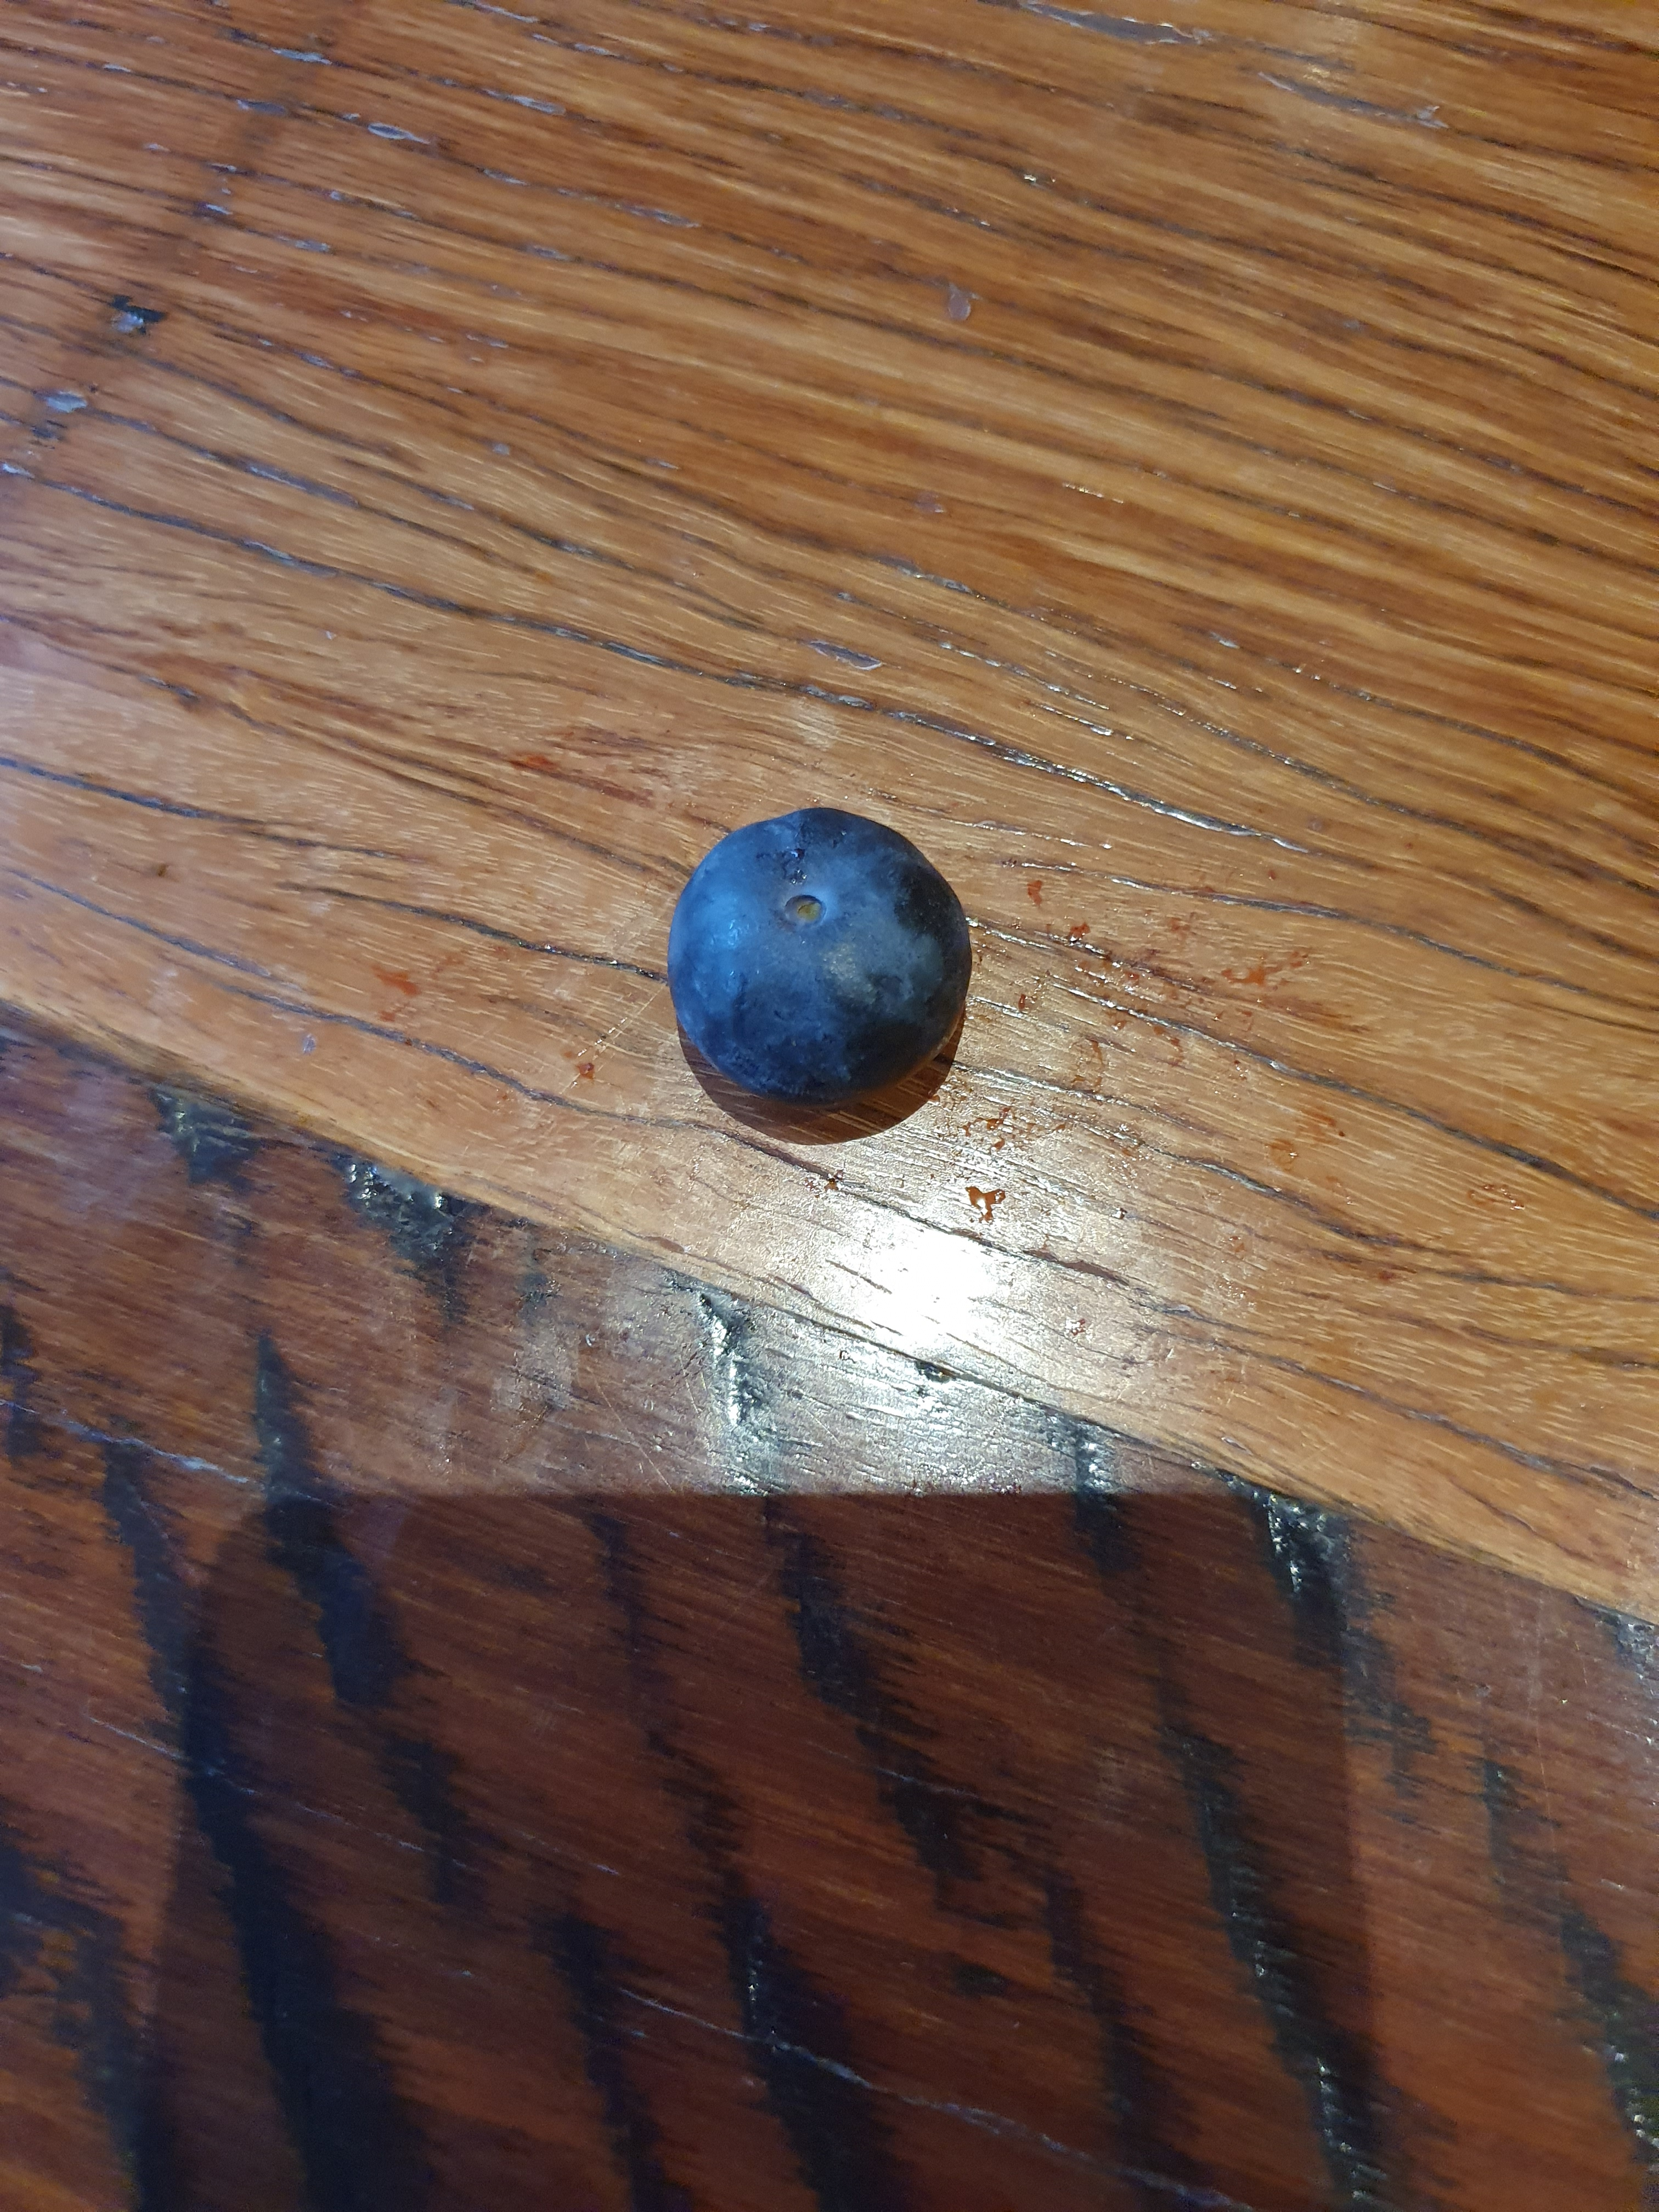blueberry: (643, 791, 995, 1169)
